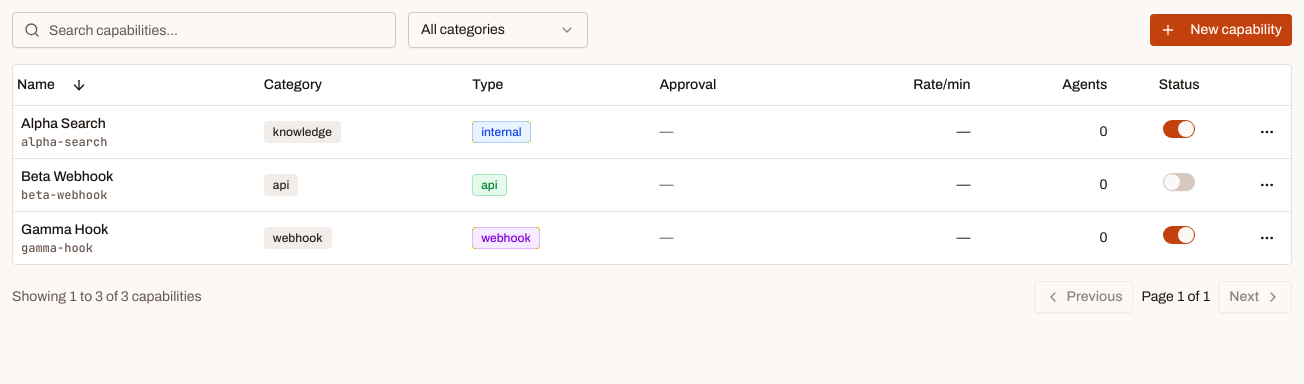
Test: CapabilitiesTable › rolls back a status flip and says to try again when the failure is not an API error
Step 1. Click the switch named "Toggle Alpha Search active" → click(1179, 129), box [1163,120,1195,138]
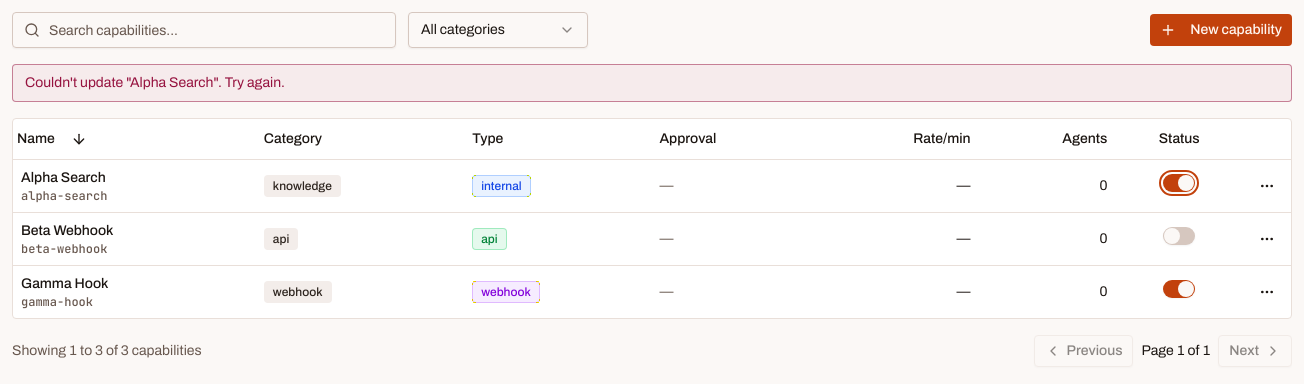
Expected: the switch named "Toggle Alpha Search active" is checked, [1163,174,1195,192]
Expected: the text "Couldn't update \"Alpha Search\". Try again." is shown, [12,64,1292,102]
